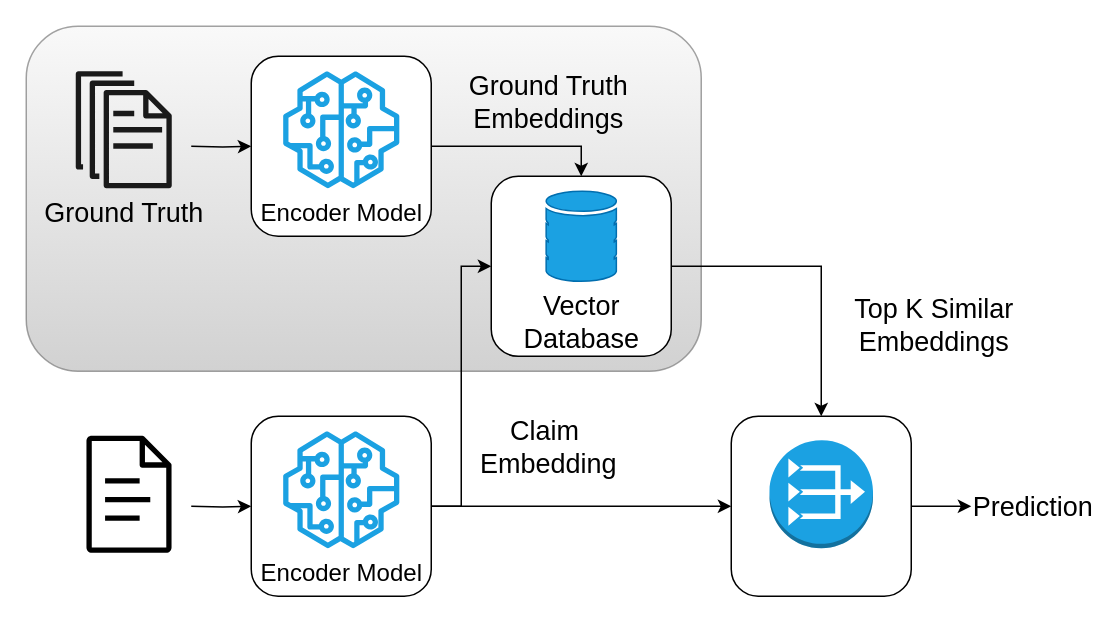
Some shapes in this 1119 by 623 pixel diagram are drawn without their labels. Here are the shapes that lost their labels. From the top down, the centre of each, then its label:
At (128,493): "Claim".
At (820,493): "NLI Model".
